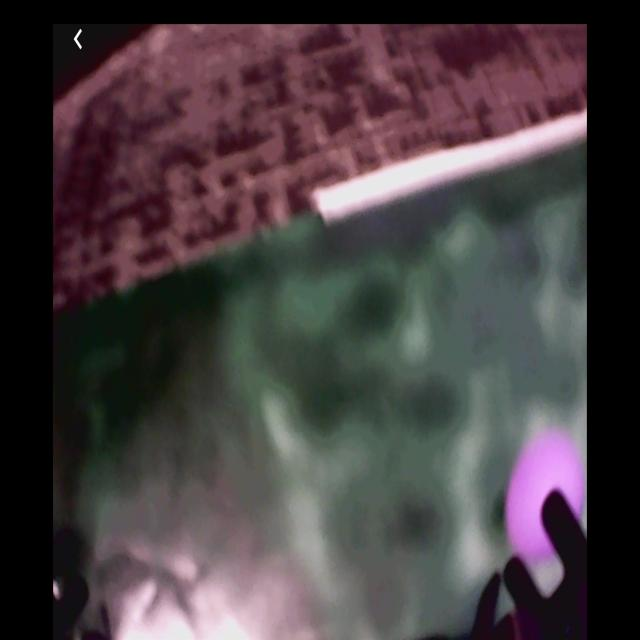ball: (507, 431, 587, 576)
